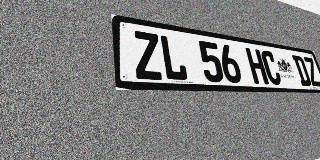5: (198, 40, 225, 83)
6: (217, 43, 243, 83)
C: (260, 50, 283, 85)
D: (292, 55, 312, 86)
H: (245, 48, 269, 84)
L: (159, 34, 189, 81)
Z: (132, 30, 164, 80), (302, 57, 320, 87)
